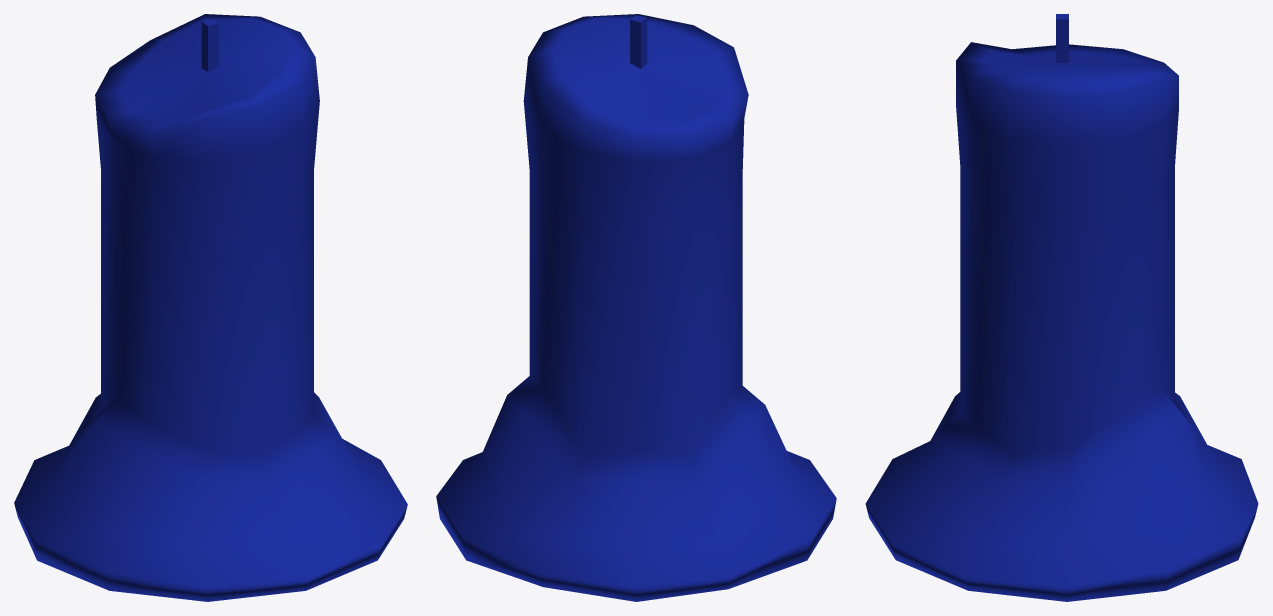
Rendered from Candle.fbx.
The picture shows the model from 3 angles, left to right: view 1: azimuth 30°, elevation 25°; view 2: azimuth 150°, elevation 25°; view 3: azimuth 270°, elevation 25°; orthographic projection.
Parts seen in each view (by area): view 1: Candle; view 2: Candle; view 3: Candle.
Part boxes in pixels (<box>): Candle: <box>14,14,407,601</box>; Candle: <box>436,14,836,601</box>; Candle: <box>865,14,1258,601</box>.
Size of the model in its own units: 12.54 by 17.19 by 12.2.
